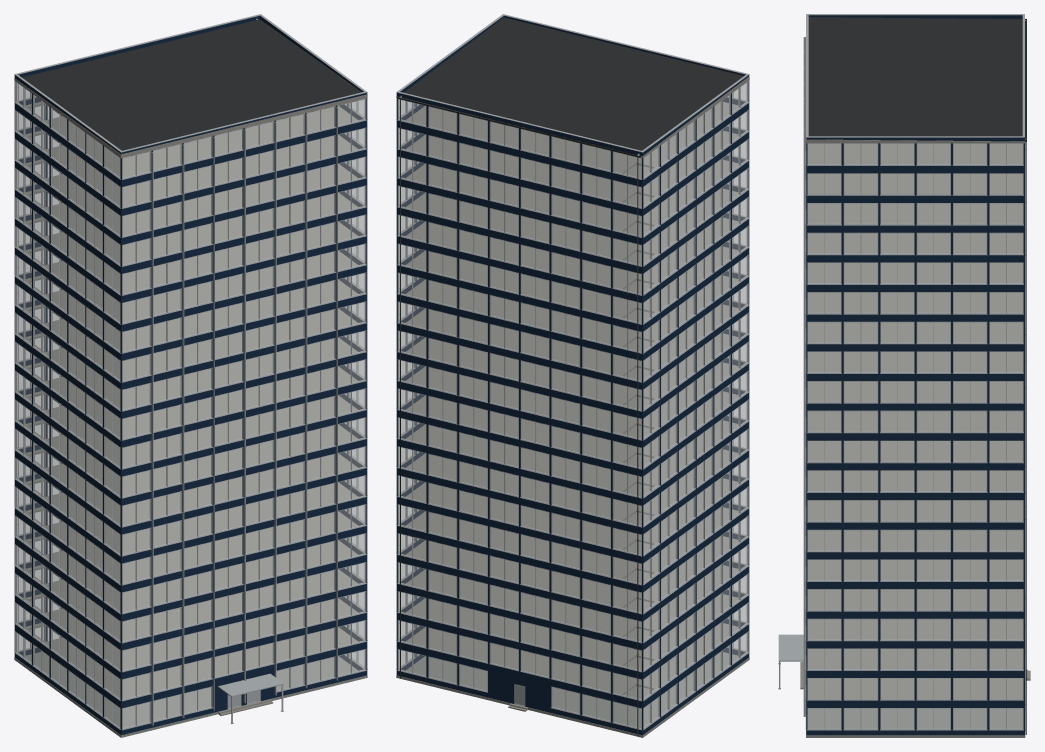
Rendered from office-tower.glb.
The picture shows the model from 3 angles, left to right: view 1: azimuth 30°, elevation 25°; view 2: azimuth 150°, elevation 25°; view 3: azimuth 270°, elevation 25°; orthographic projection. The views are drawn at different scales.
Visible parts, largest first — view 1: Tower back floor01 glazed bay1 finite glazing, Tower floor02 finite structural slab with circulation void, Tower attached vertical solar fin0, Tower continuous mullion-spandrel envelope continuous united, Tower roof finite membrane with rear fall, Tower grounded projecting plinth; view 2: Tower back floor01 glazed bay1 finite glazing, Tower floor02 finite structural slab with circulation void, Tower continuous mullion-spandrel envelope continuous united, Tower attached vertical solar fin0, Tower roof finite membrane with rear fall, Tower grounded projecting plinth, Tower roof collector underside hanger 0; view 3: Tower back floor01 glazed bay1 finite glazing, Tower floor02 finite structural slab with circulation void, Tower continuous mullion-spandrel envelope continuous united, Tower attached vertical solar fin0, Tower roof finite membrane with rear fall, Tower grounded projecting plinth, Tower roof collector underside hanger 0.
Part boxes in pixels (box(x1,y1,x2,y2)): Tower back floor01 glazed bay1 finite glazing: box(16, 82, 364, 728); Tower floor02 finite structural slab with circulation void: box(14, 78, 367, 723); Tower attached vertical solar fin0: box(14, 14, 367, 730); Tower continuous mullion-spandrel envelope continuous united: box(14, 16, 367, 735); Tower roof finite membrane with rear fall: box(22, 19, 361, 150); Tower grounded projecting plinth: box(14, 652, 367, 737); Tower back floor01 glazed bay1 finite glazing: box(399, 82, 747, 728); Tower floor02 finite structural slab with circulation void: box(396, 76, 749, 711); Tower continuous mullion-spandrel envelope continuous united: box(396, 16, 749, 735); Tower attached vertical solar fin0: box(396, 14, 749, 730); Tower roof finite membrane with rear fall: box(401, 17, 743, 154); Tower grounded projecting plinth: box(396, 652, 749, 737); Tower roof collector underside hanger 0: box(397, 96, 641, 736); Tower back floor01 glazed bay1 finite glazing: box(808, 144, 1022, 728); Tower floor02 finite structural slab with circulation void: box(778, 18, 1030, 698); Tower continuous mullion-spandrel envelope continuous united: box(806, 15, 1024, 735); Tower attached vertical solar fin0: box(778, 14, 1025, 730); Tower roof finite membrane with rear fall: box(808, 17, 1022, 136); Tower grounded projecting plinth: box(806, 708, 1025, 737); Tower roof collector underside hanger 0: box(1025, 19, 1026, 734).
Bounding box in the file's own units: 32.19 × 72.79 × 27.74.
Materials: 8 (6 with a texture image).
